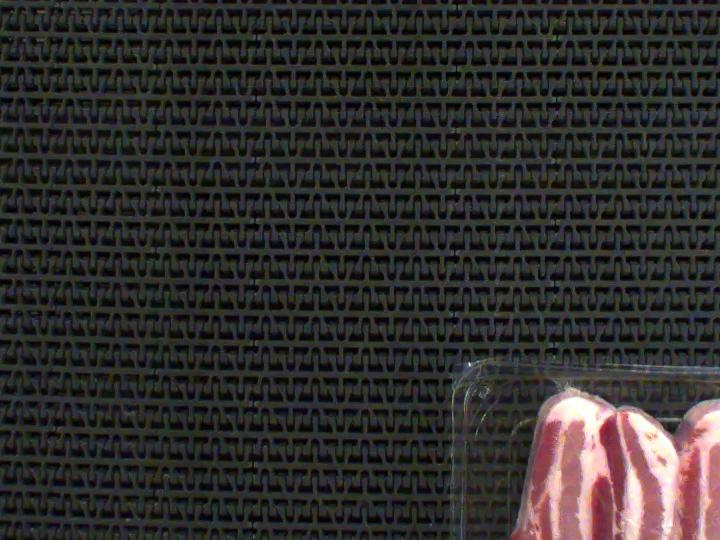packaging-error: (544, 369, 584, 392), (714, 384, 720, 407)
